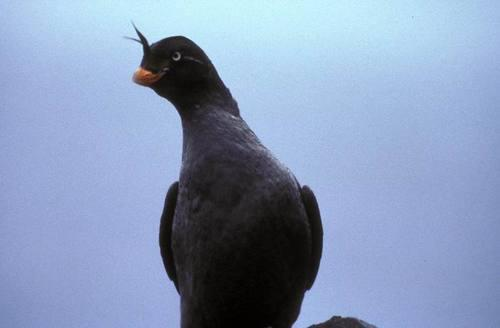005.Crested_Auklet: (121, 19, 325, 328)
